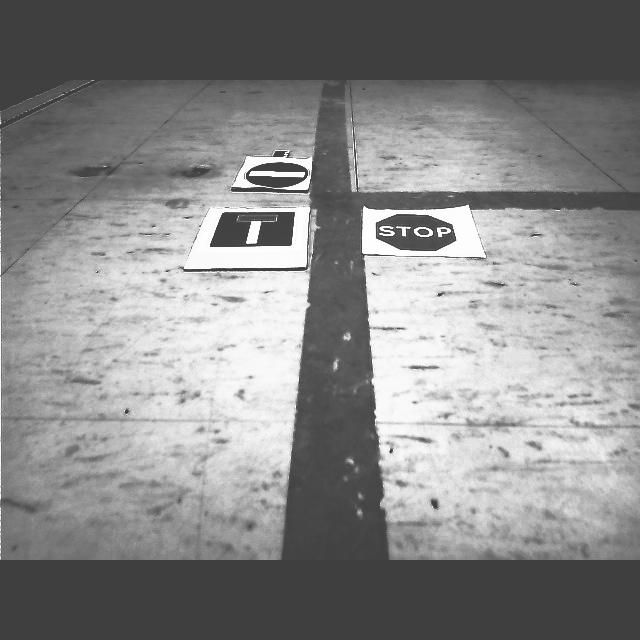DEAD END: (209, 211, 298, 247)
NO ENTRY: (246, 162, 309, 188)
STOP: (376, 213, 456, 250)
